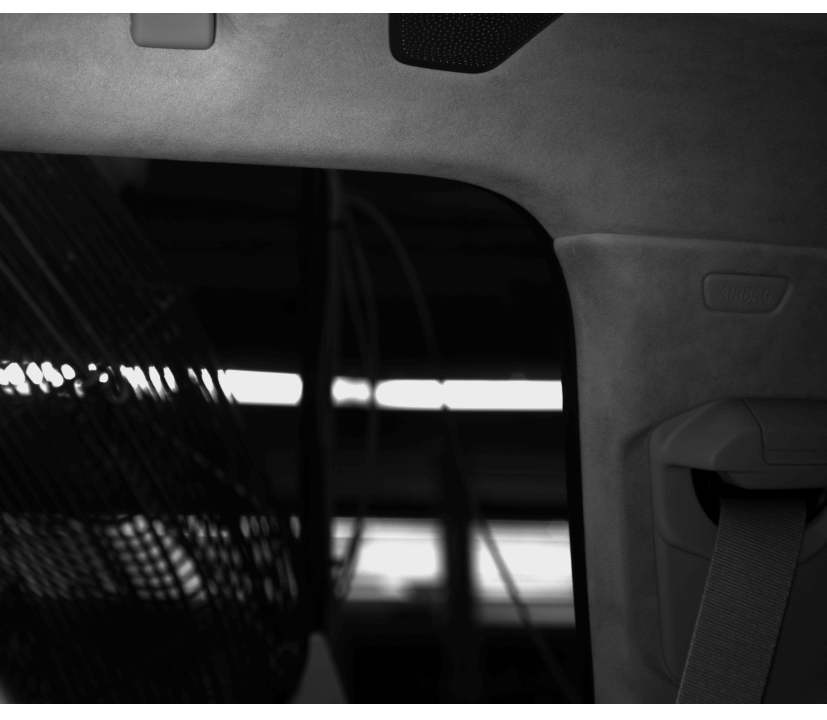camerafault: (685, 259, 799, 329)
